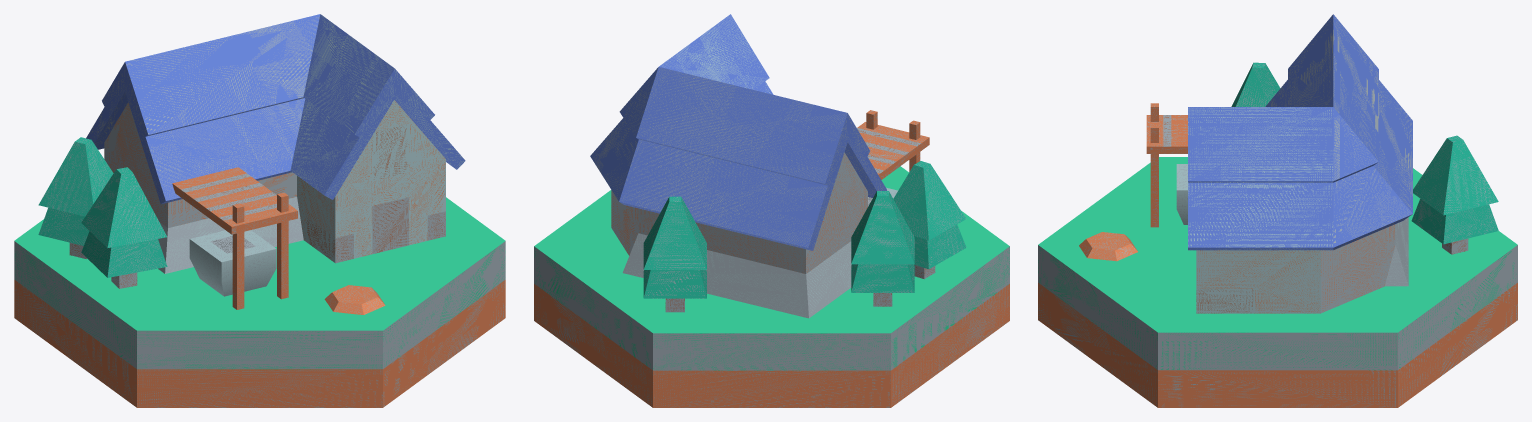
Rendered from Blacksmith.fbx.
3 views of the same model, side by side, from view 1: azimuth 30°, elevation 25°; view 2: azimuth 150°, elevation 25°; view 3: azimuth 270°, elevation 25° (orthographic). The views are drawn at different scales.
Visible parts, largest first — view 1: Group1, Group3, Group5, Group8, Group7, Group4, Group6; view 2: Group1, Group3, Group2, Group7, Group8, Group5; view 3: Group1, Group3, Group2, Group5, Group8, Group6, Group4.
Boxes of the visible parts, x1=… form: Group1: x1=14, y1=197, x2=505, y2=407; Group3: x1=86, y1=14, x2=465, y2=273; Group5: x1=172, y1=167, x2=297, y2=309; Group8: x1=81, y1=167, x2=167, y2=288; Group7: x1=38, y1=137, x2=113, y2=259; Group4: x1=189, y1=230, x2=276, y2=296; Group6: x1=324, y1=285, x2=385, y2=314; Group1: x1=534, y1=166, x2=1009, y2=407; Group3: x1=590, y1=14, x2=886, y2=318; Group2: x1=643, y1=196, x2=706, y2=312; Group7: x1=851, y1=191, x2=914, y2=306; Group8: x1=893, y1=161, x2=966, y2=278; Group5: x1=857, y1=110, x2=929, y2=179; Group1: x1=1038, y1=157, x2=1517, y2=407; Group3: x1=1188, y1=14, x2=1412, y2=313; Group2: x1=1411, y1=135, x2=1498, y2=254; Group5: x1=1146, y1=103, x2=1187, y2=227; Group8: x1=1231, y1=62, x2=1280, y2=106; Group6: x1=1079, y1=232, x2=1137, y2=261; Group4: x1=1176, y1=164, x2=1187, y2=224.
Bounding box in the file's own units: 1 × 0.6781 × 1.15.
